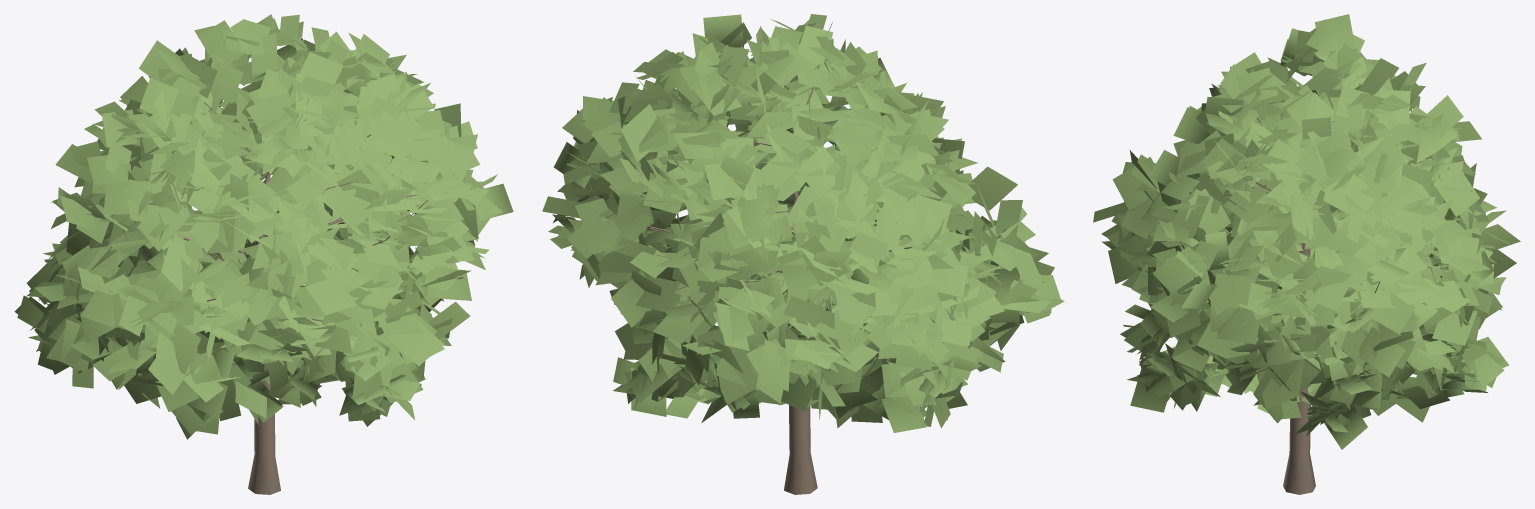
The model's file is Broadleaf_3_lod1.glb.
The picture shows the model from 3 angles, left to right: view 1: azimuth 30°, elevation 25°; view 2: azimuth 150°, elevation 25°; view 3: azimuth 270°, elevation 25°; orthographic projection. The views are drawn at different scales.
Parts seen in each view (by area): view 1: Broadleaf_3_lod1; view 2: Broadleaf_3_lod1; view 3: Broadleaf_3_lod1.
Boxes of the visible parts, x1,y1,x2,y2 form: Broadleaf_3_lod1: (14, 14, 513, 494); Broadleaf_3_lod1: (542, 14, 1064, 494); Broadleaf_3_lod1: (1093, 14, 1520, 494).
Bounding box in the file's own units: 12.41 × 12.38 × 10.93.
